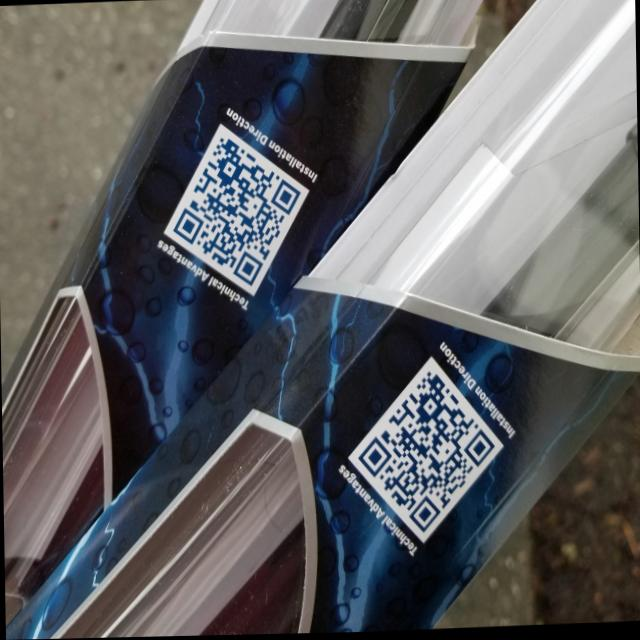QR_CODE: (348, 349, 503, 548), (160, 108, 314, 307)
